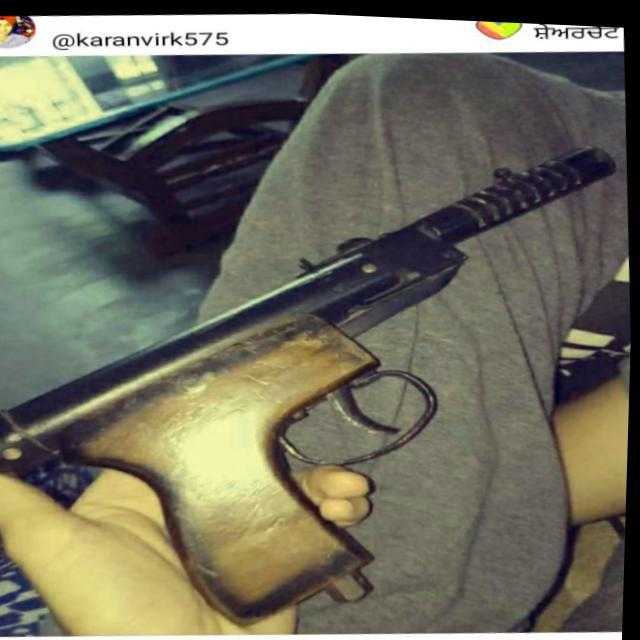weapon: (0, 108, 637, 640)
